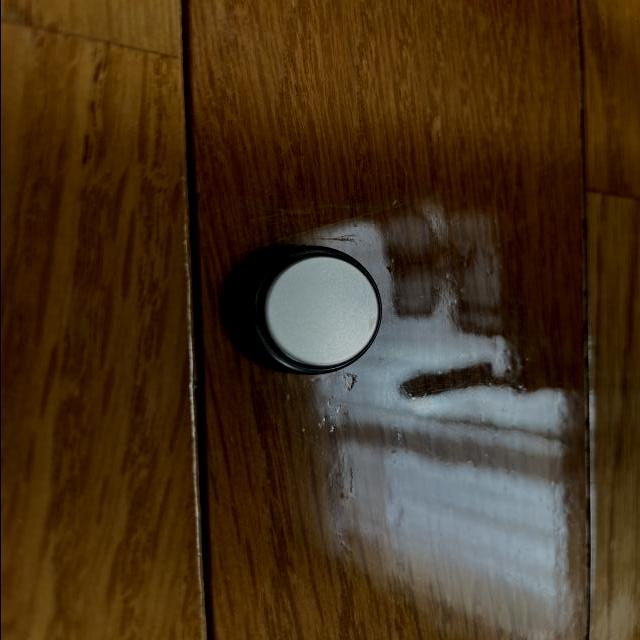COIN: (241, 244, 386, 377)
